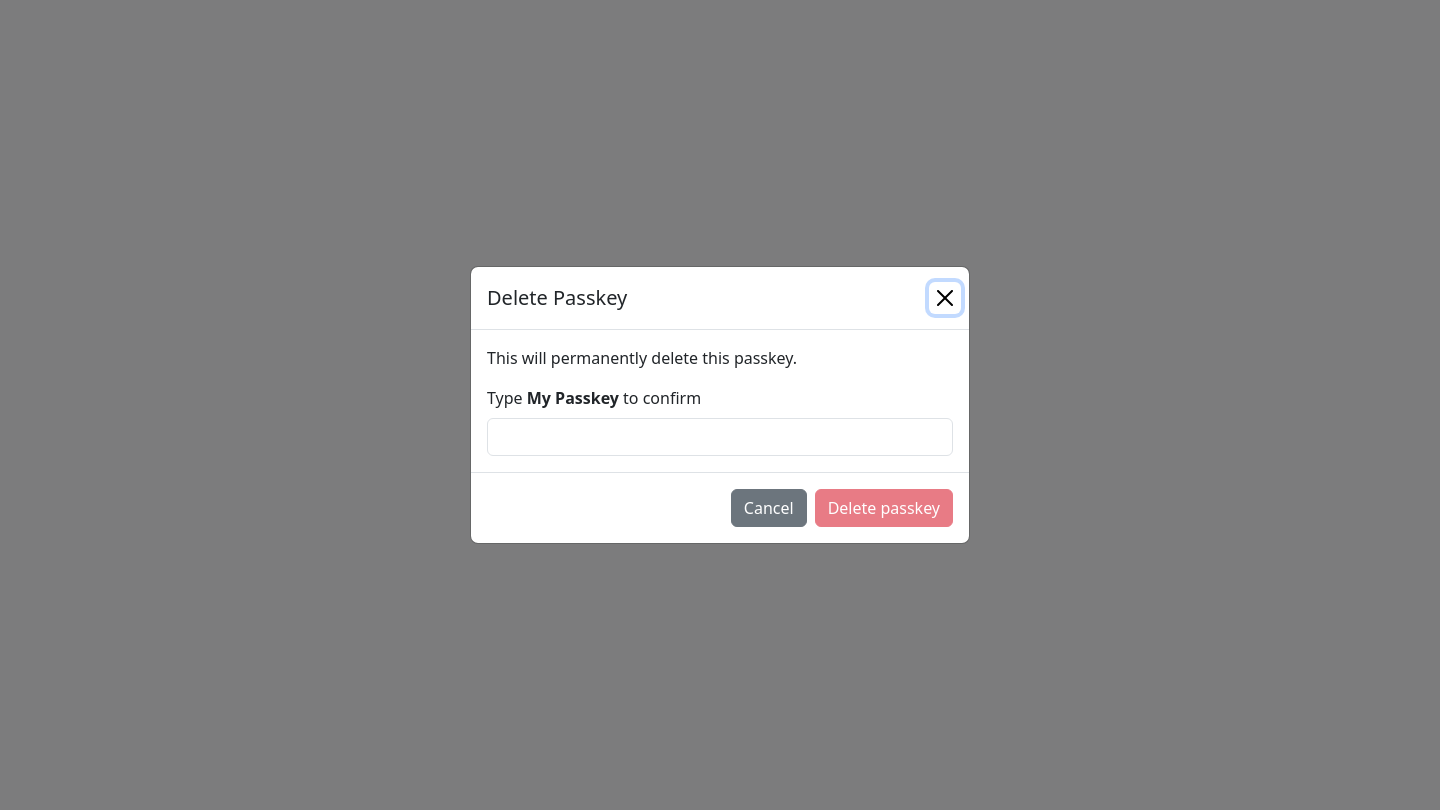
Test case: TypeToConfirmModal › enables confirm button when input matches item name
The width and height of the screenshot is (1440, 810).
Type "My Passkey" into the field labelled "Type My Passkey to confirm".
click(720, 437); type("My Passkey")  # box [487,418,953,456]
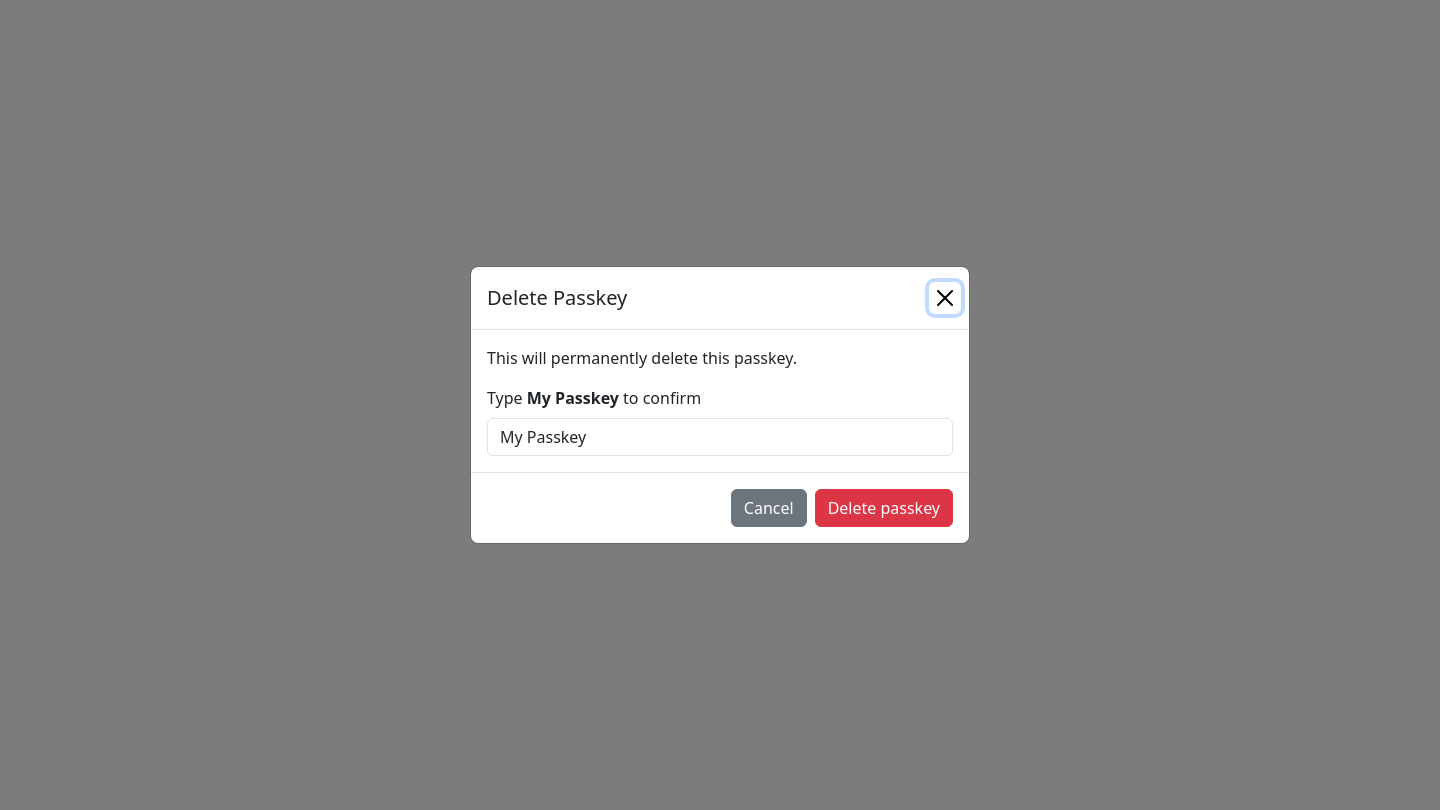
Expected: the button "Delete passkey" is enabled, [815,489,953,527]
